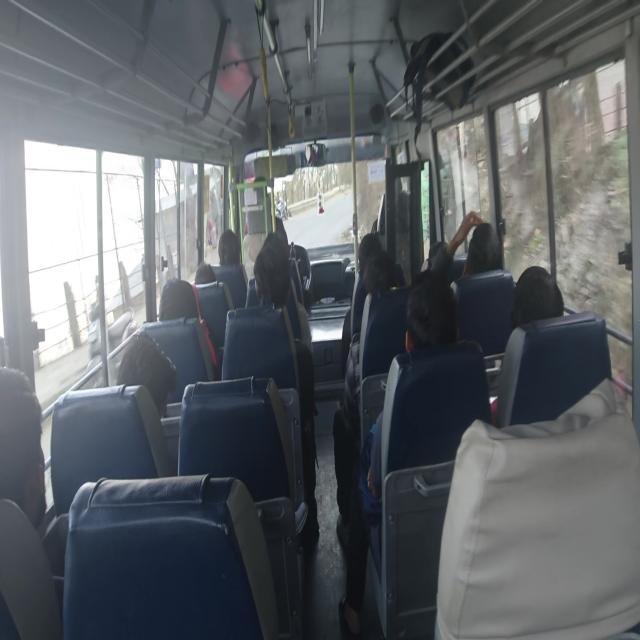person: (338, 274, 460, 637), (333, 249, 405, 545), (252, 232, 319, 542), (492, 264, 564, 426), (0, 364, 47, 530), (253, 232, 313, 353), (341, 232, 382, 374), (429, 209, 503, 284), (116, 330, 178, 418), (510, 264, 564, 328), (462, 221, 503, 275), (217, 229, 248, 288), (158, 277, 199, 321), (194, 261, 217, 285)
